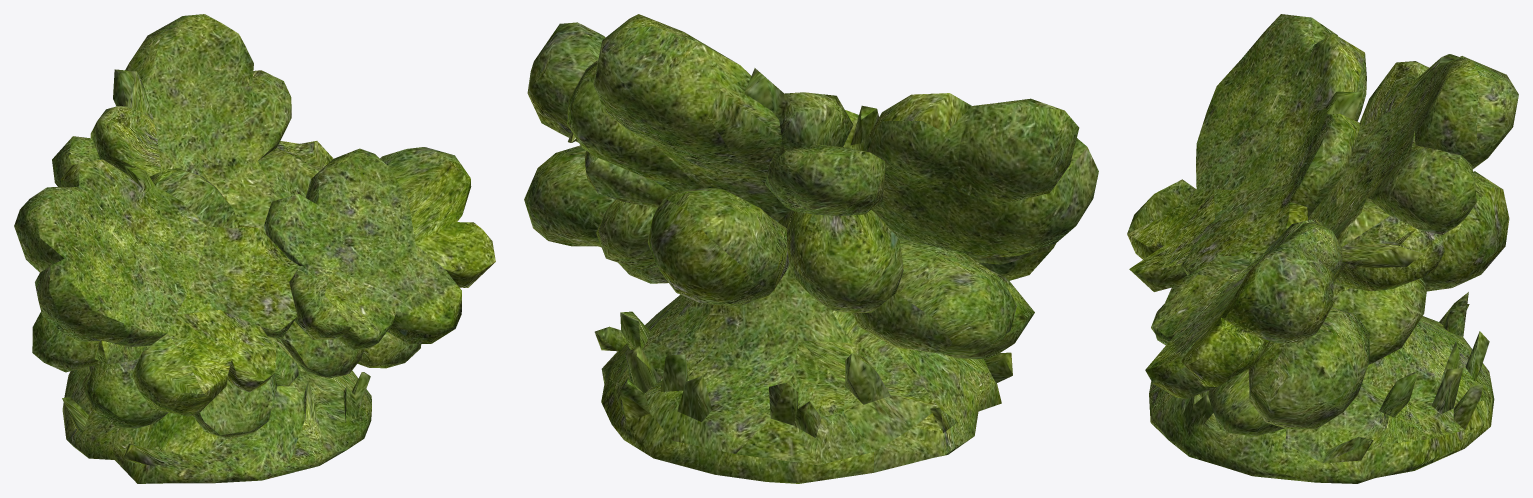
File: planta.obj
3 renders of one model, left to right at view 1: azimuth 30°, elevation 25°; view 2: azimuth 150°, elevation 25°; view 3: azimuth 270°, elevation 25°, orthographic. The views are drawn at different scales.
Visible parts, largest first — view 1: model; view 2: model; view 3: model.
Part boxes in pixels (<box>): model: <box>14,14,495,483</box>; model: <box>524,14,1098,483</box>; model: <box>1127,14,1518,483</box>.
Bounding box in the file's own units: 1.91 × 1.46 × 1.38.
1 material, 1 textured.
